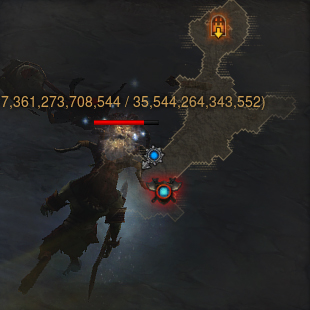Exit: (207, 12, 229, 41)
